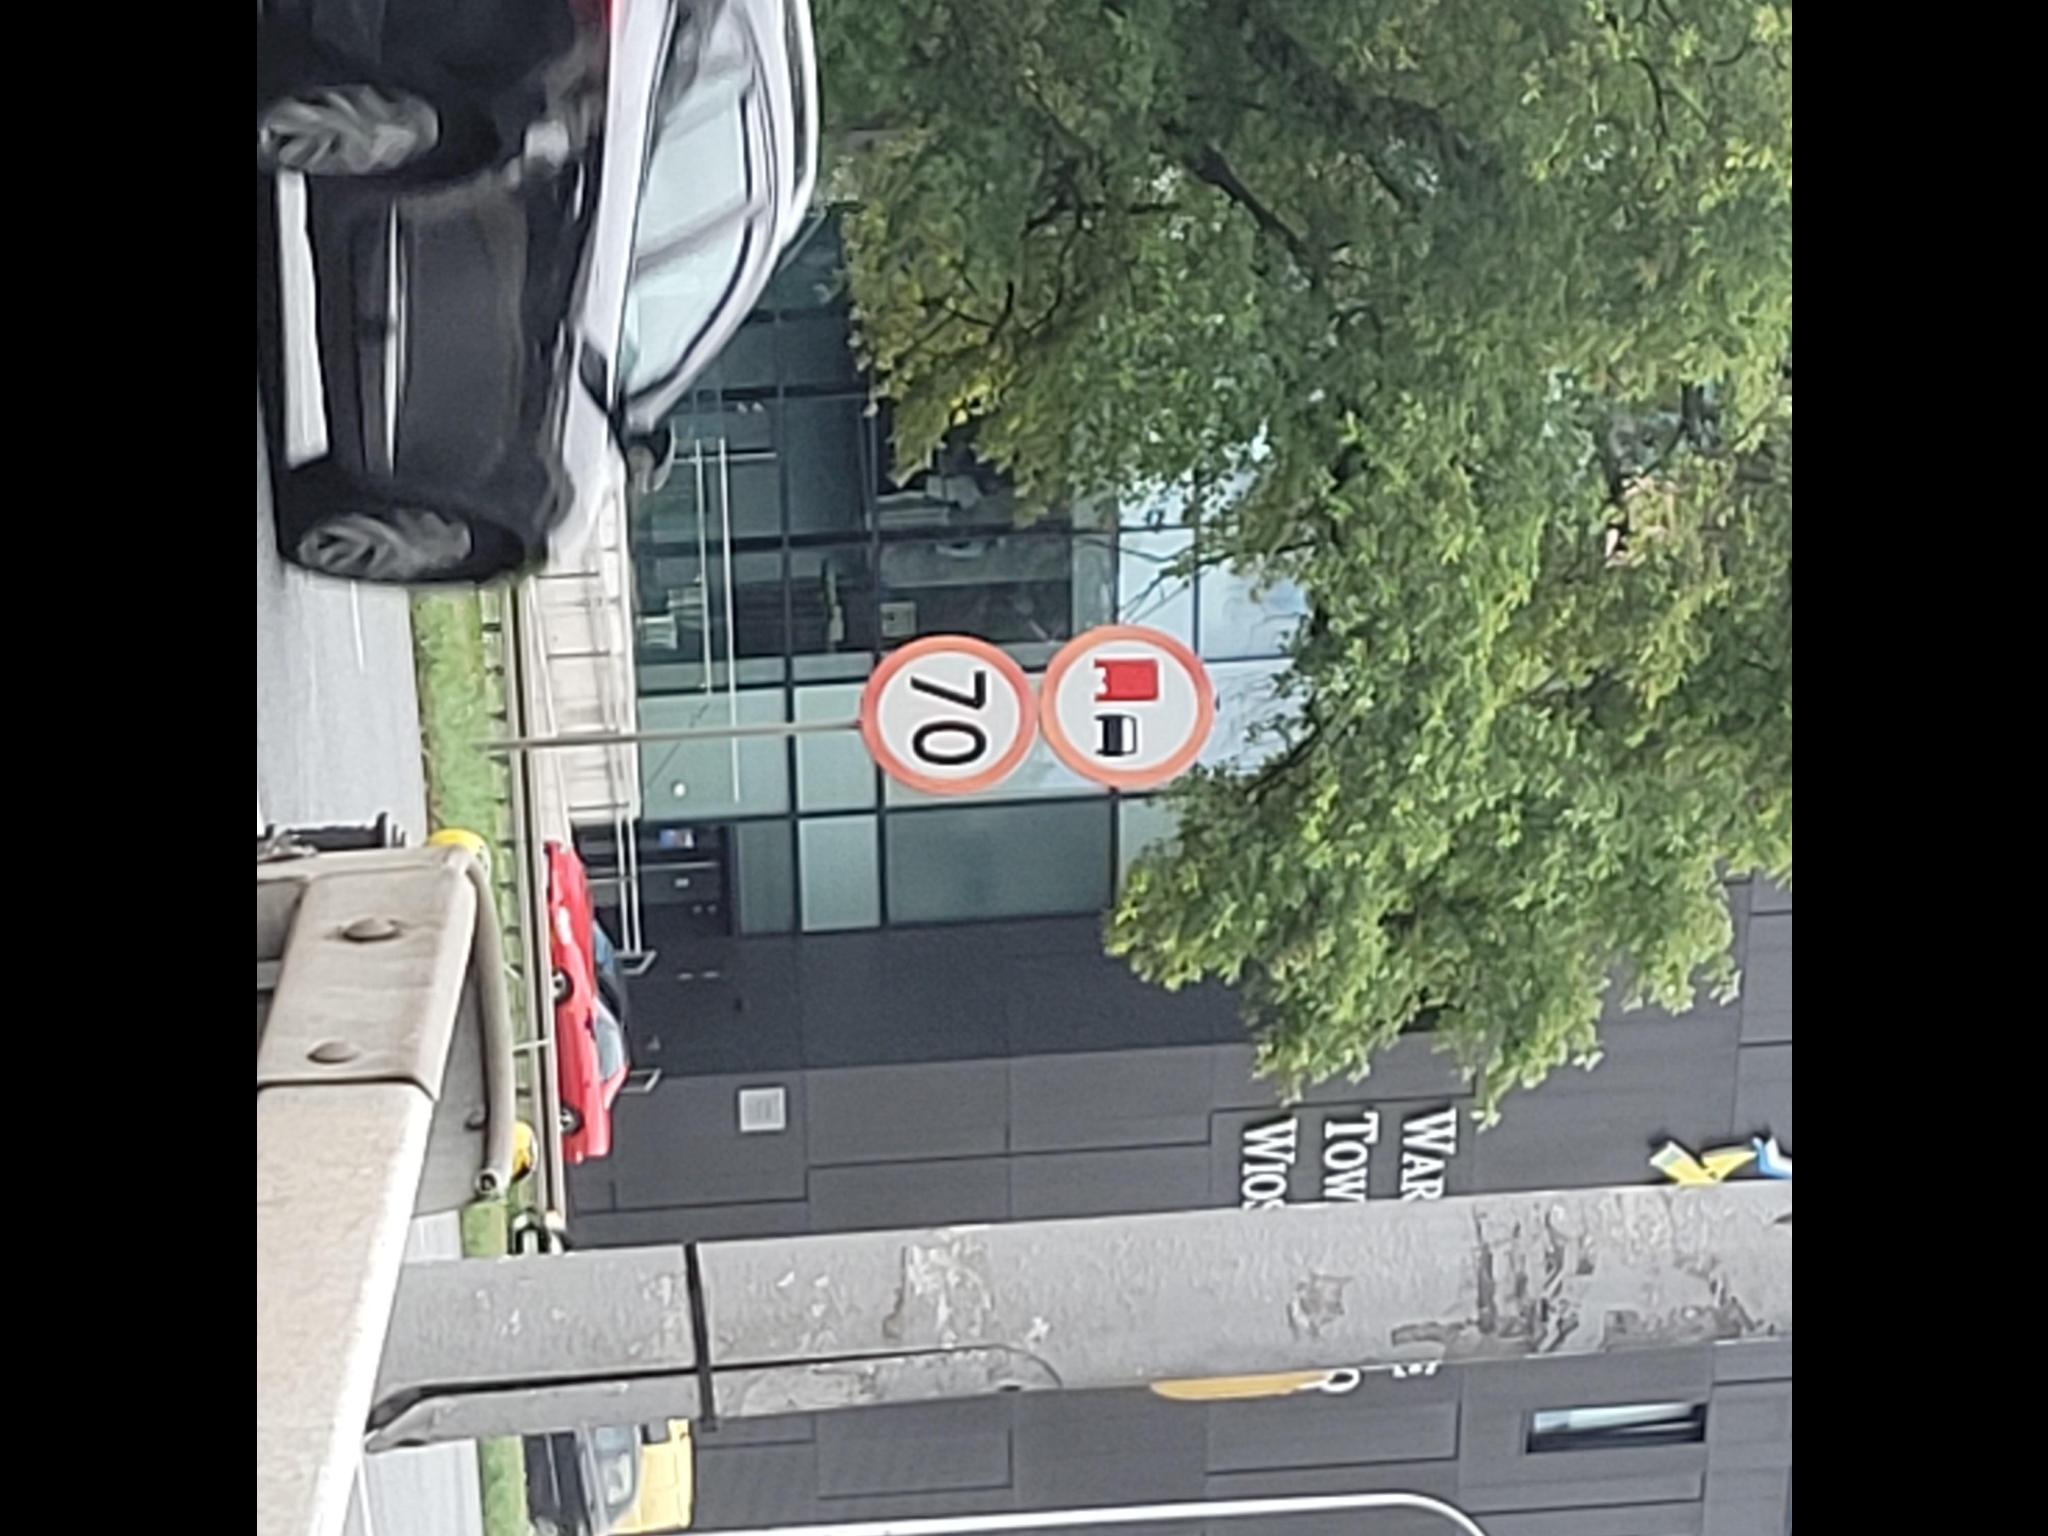prohibitory: (1039, 623, 1219, 791), (856, 632, 1039, 795)
